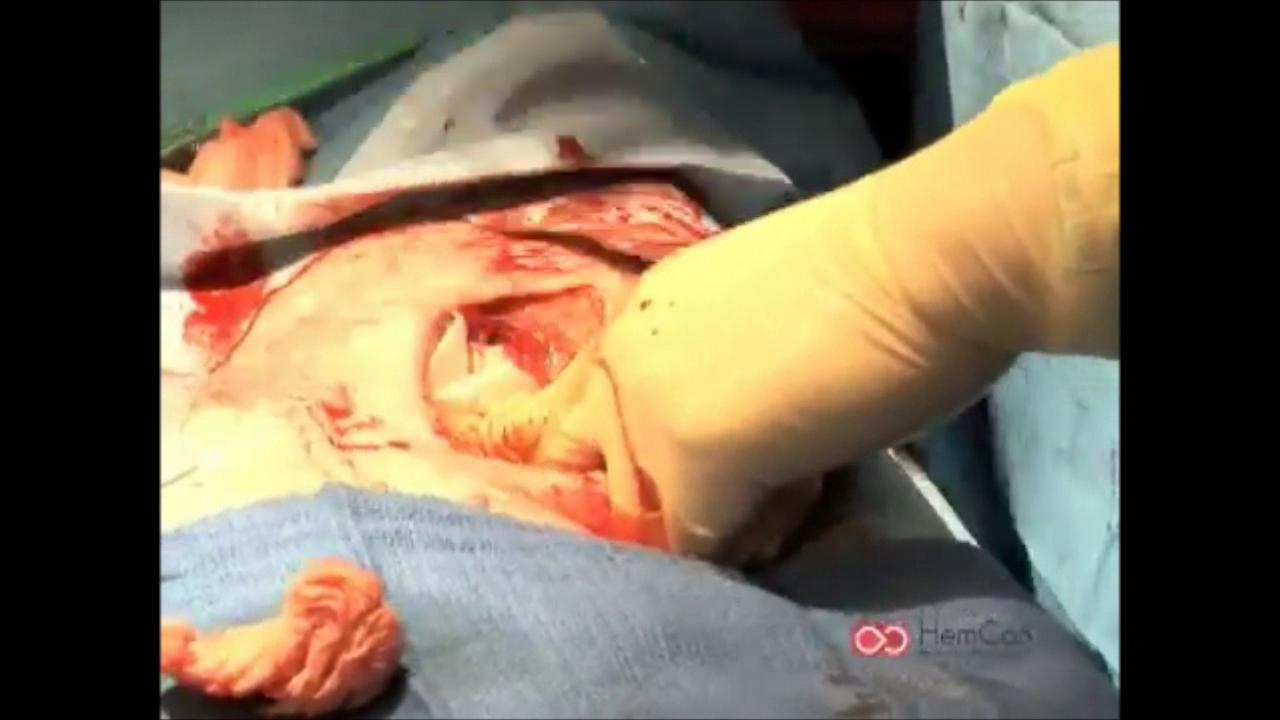gauze: (160, 554, 407, 719)
